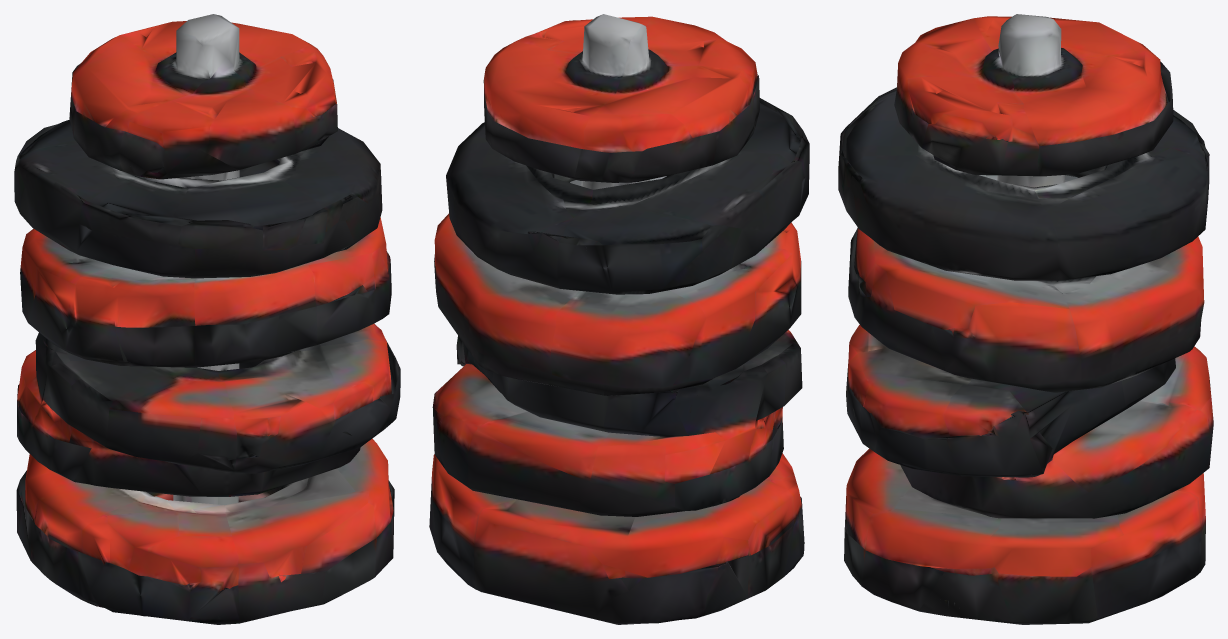
Rendered from plate-tree.glb.
3 views of the same model, side by side, from view 1: azimuth 30°, elevation 25°; view 2: azimuth 150°, elevation 25°; view 3: azimuth 270°, elevation 25° (orthographic).
Parts seen in each view (by area): view 1: tripo_node_33be7b3f-8326-4a25-aefb-57240208840b; view 2: tripo_node_33be7b3f-8326-4a25-aefb-57240208840b; view 3: tripo_node_33be7b3f-8326-4a25-aefb-57240208840b.
Boxes of the visible parts, x1,y1,x2,y2 form: tripo_node_33be7b3f-8326-4a25-aefb-57240208840b: [14, 14, 400, 624]; tripo_node_33be7b3f-8326-4a25-aefb-57240208840b: [429, 14, 809, 624]; tripo_node_33be7b3f-8326-4a25-aefb-57240208840b: [838, 14, 1213, 624].
Size of the model in its own units: 0.5906 by 0.9988 by 0.5919.
1 material, 1 textured.
